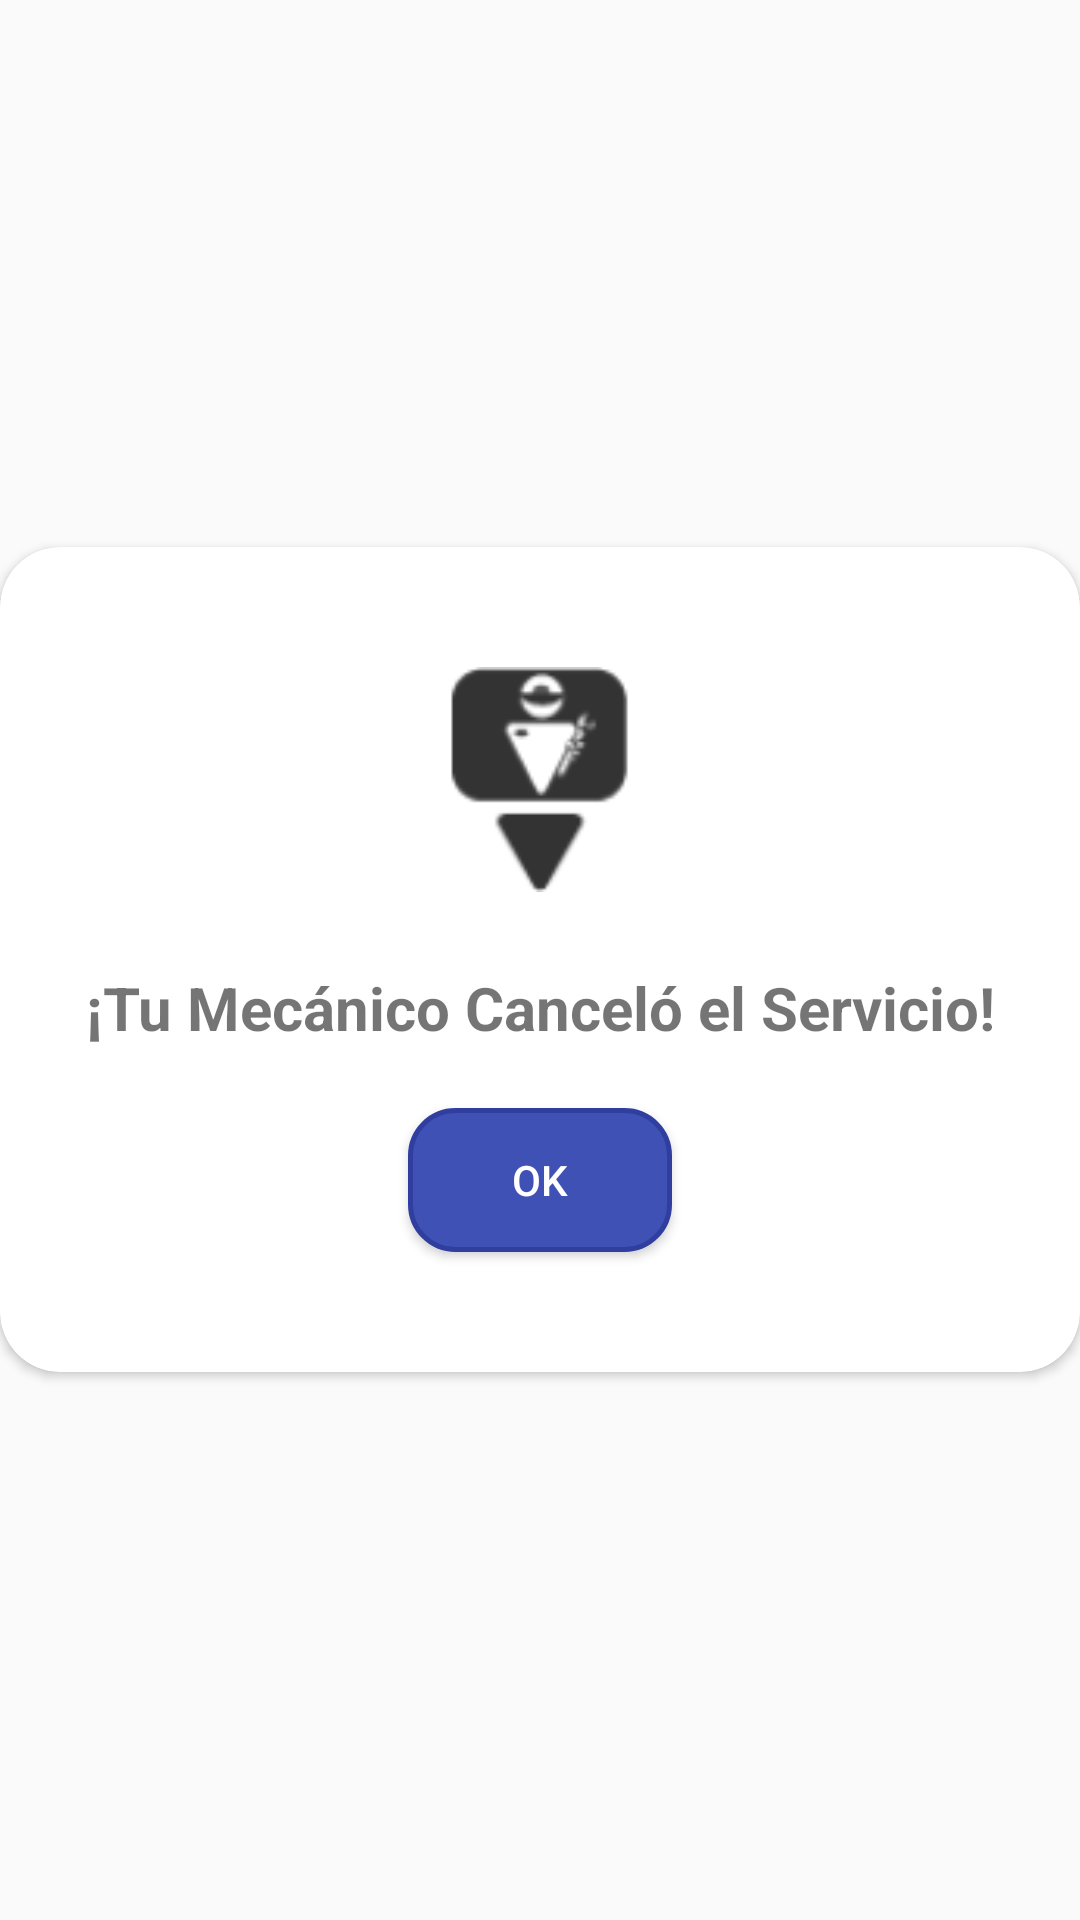

Screen size 1080×1920. Icon name, then its center in pixels as [x,y]:
mecanico negro: [539,779]
